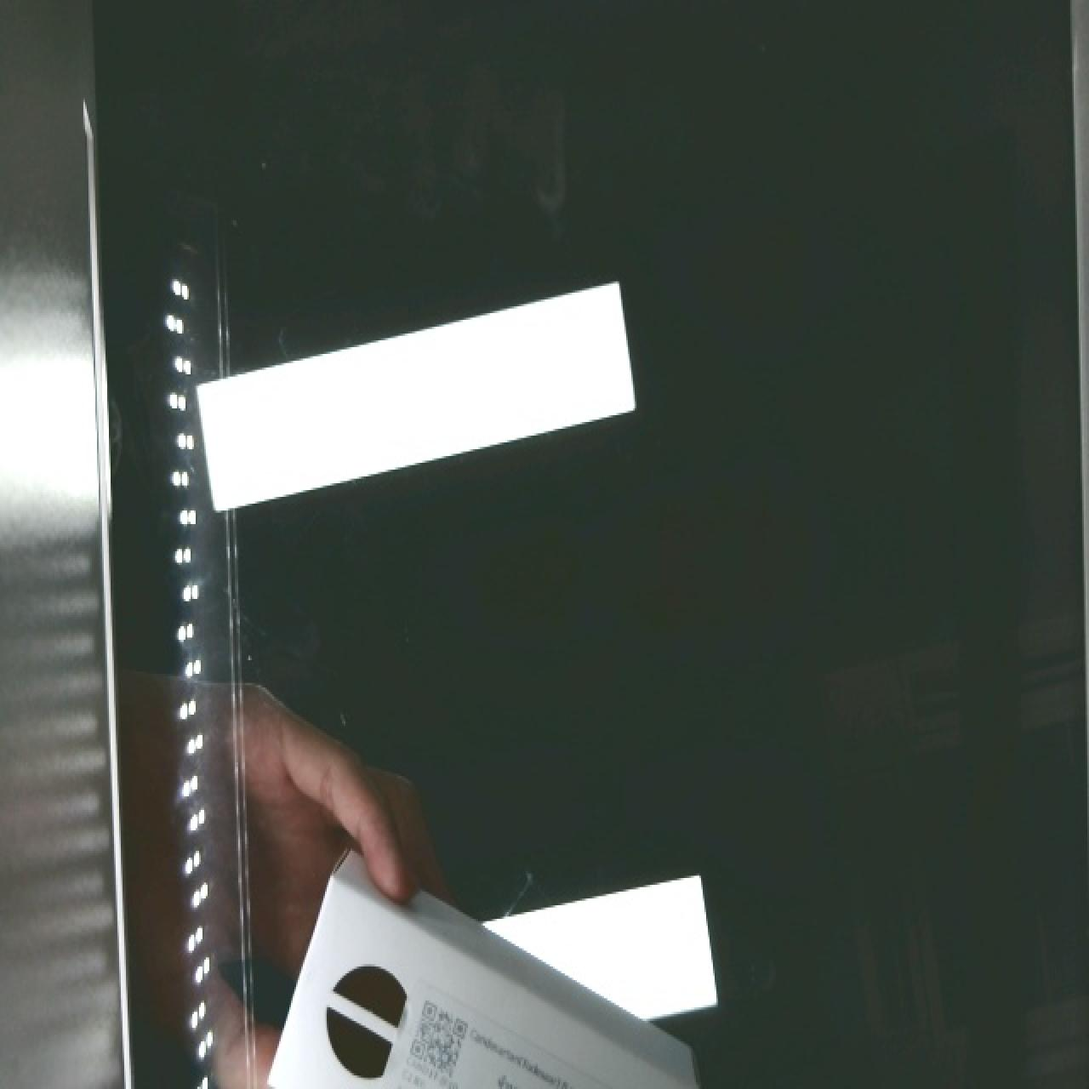qr_code: (392, 975, 481, 1087)
